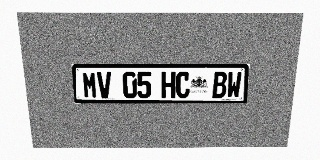0: (122, 72, 137, 98)
5: (137, 72, 151, 98)
B: (212, 72, 227, 98)
C: (176, 72, 190, 98)
H: (161, 72, 176, 98)
M: (82, 72, 98, 98)
V: (97, 72, 112, 98)
W: (226, 72, 242, 98)
